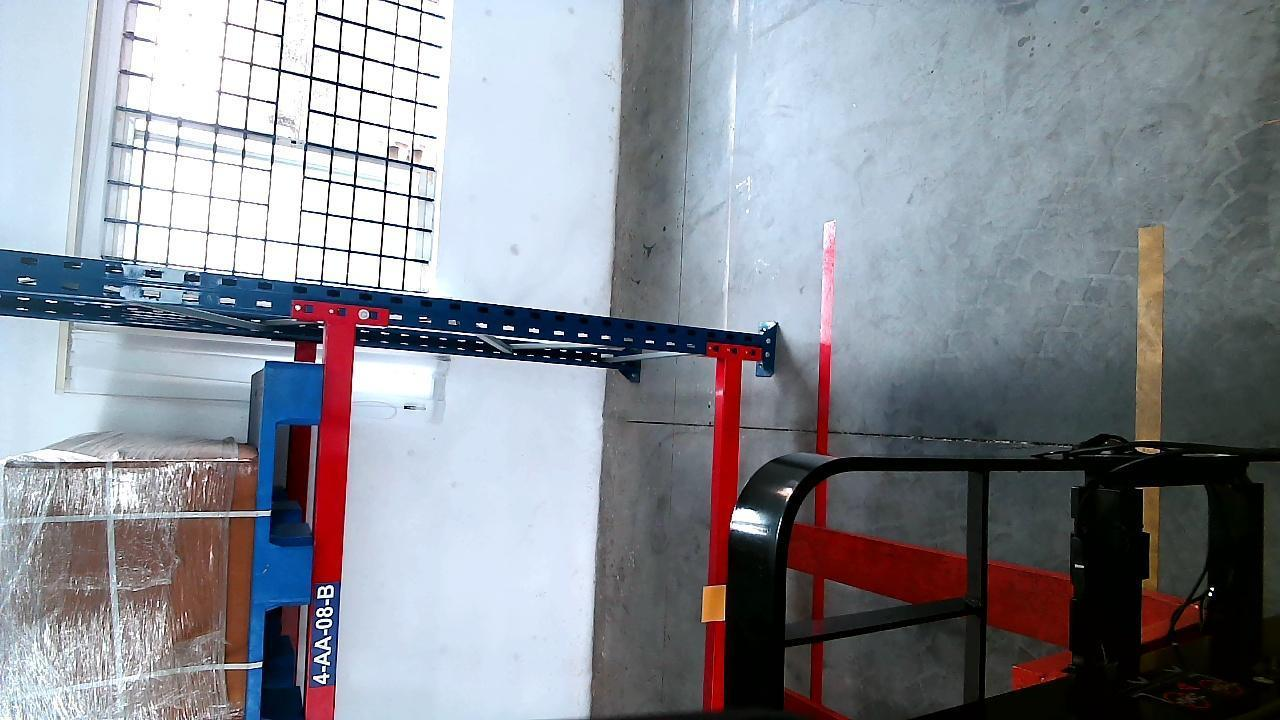h_rack: (308, 321, 352, 720), (698, 354, 741, 720)
red_line: (804, 218, 839, 706)
small_pallet: (245, 360, 324, 720)
yellow_line: (1138, 222, 1163, 442)
